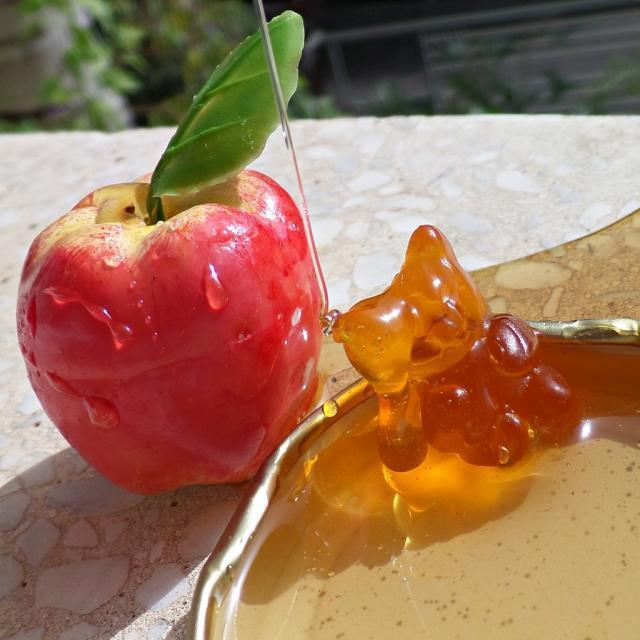Apple: (15, 169, 324, 496)
